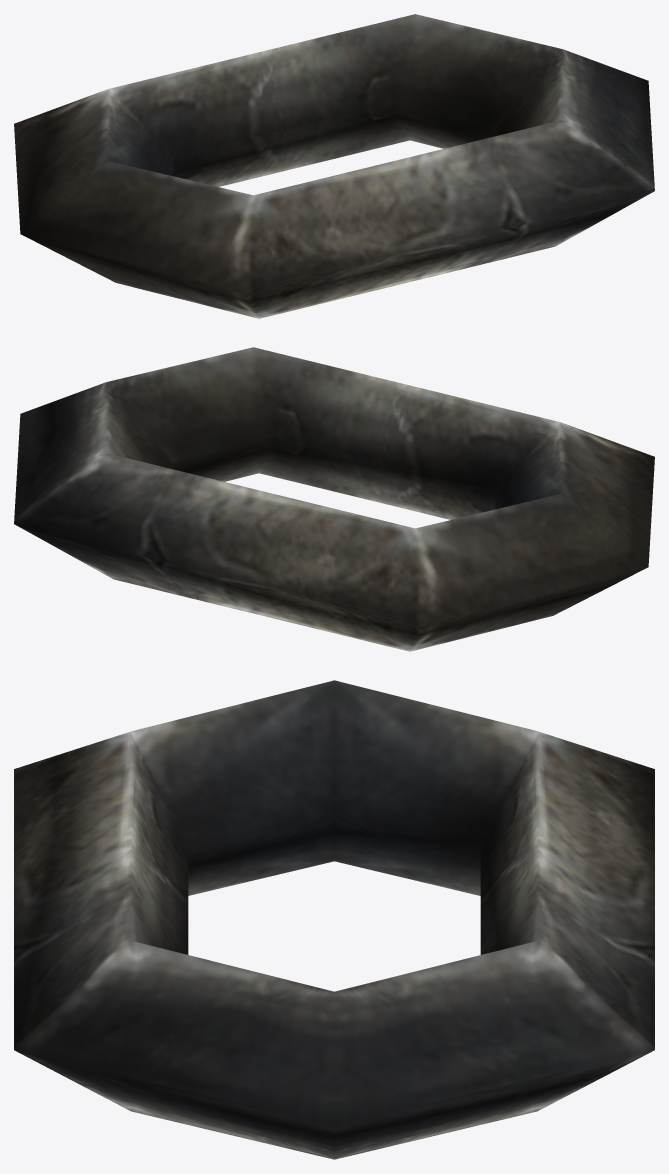
File: Z_tielian001.fbx
The picture shows the model from 3 angles, top to bottom: view 1: azimuth 30°, elevation 25°; view 2: azimuth 150°, elevation 25°; view 3: azimuth 270°, elevation 25°; orthographic projection. The views are drawn at different scales.
Parts seen in each view (by area): view 1: Z_tielian001; view 2: Z_tielian001; view 3: Z_tielian001.
Boxes of the visible parts, box(x1,y1,x2,y2) form: Z_tielian001: box(14, 14, 654, 318); Z_tielian001: box(14, 347, 654, 651); Z_tielian001: box(14, 680, 654, 1159).
Bounding box in the file's own units: 199 × 37.72 × 126.
